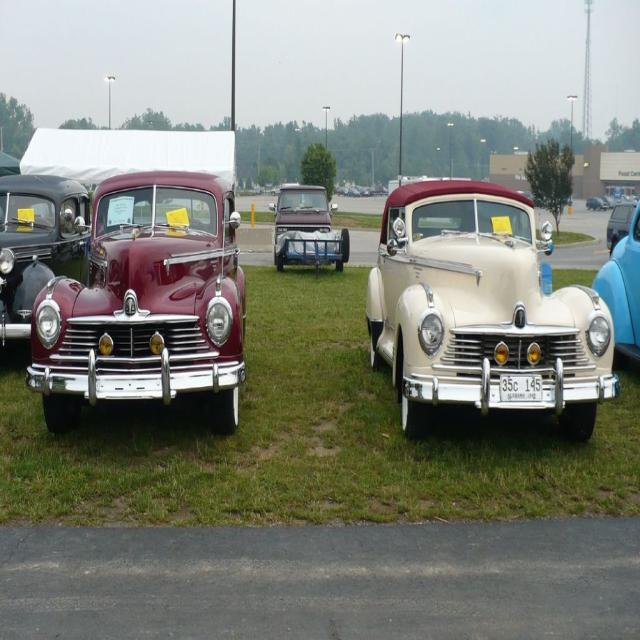car: (366, 181, 613, 441), (26, 169, 247, 425)
